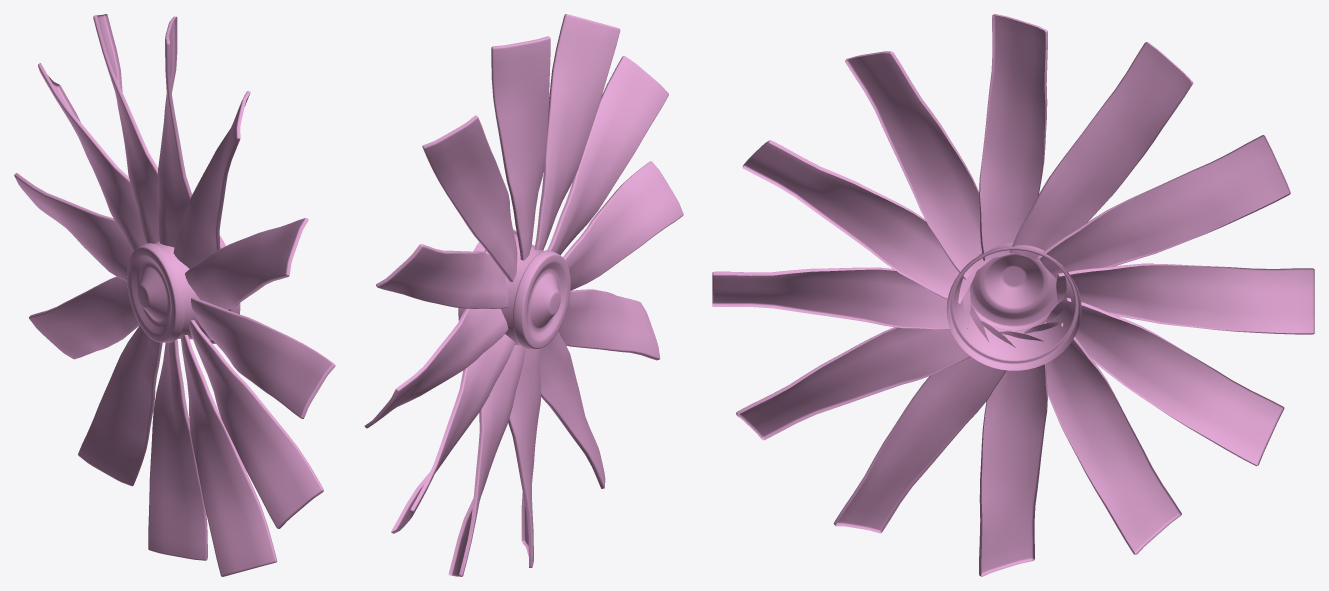
Rendered from Pales.fbx.
3 renders of one model, left to right at view 1: azimuth 30°, elevation 25°; view 2: azimuth 150°, elevation 25°; view 3: azimuth 270°, elevation 25°, orthographic. The views are drawn at different scales.
Visible parts, largest first — view 1: Pales_Lp001; view 2: Pales_Lp001; view 3: Pales_Lp001.
Boxes of the visible parts, x1=… form: Pales_Lp001: x1=14, y1=14, x2=335, y2=576; Pales_Lp001: x1=364, y1=14, x2=683, y2=576; Pales_Lp001: x1=712, y1=14, x2=1314, y2=576.
Bounding box in the file's own units: 16 × 122 × 122.
